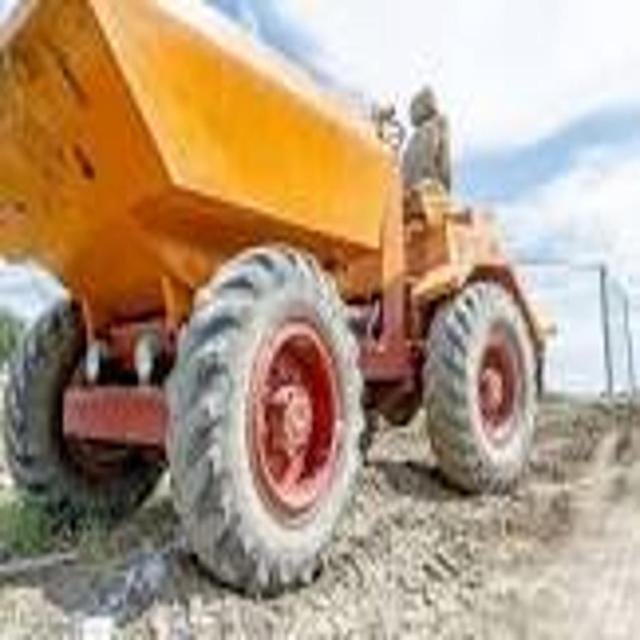dump_truck: (0, 0, 575, 630)
